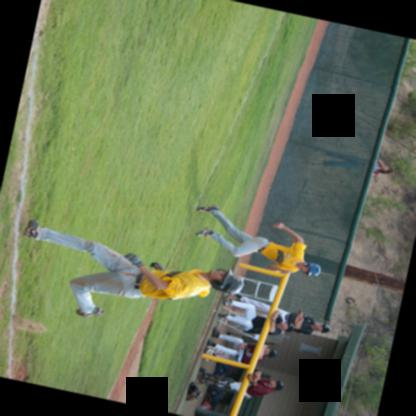backpack: (185, 381, 201, 400)
